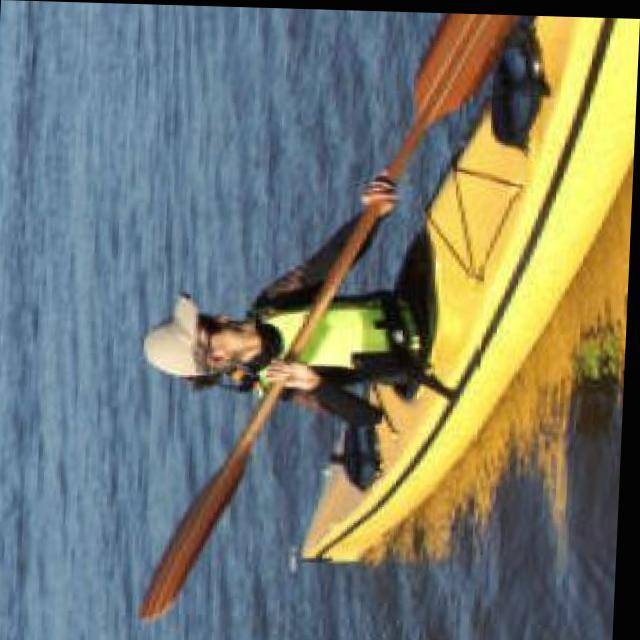kayak: (229, 10, 640, 560), (258, 12, 640, 560), (147, 371, 282, 618), (387, 10, 503, 176)
